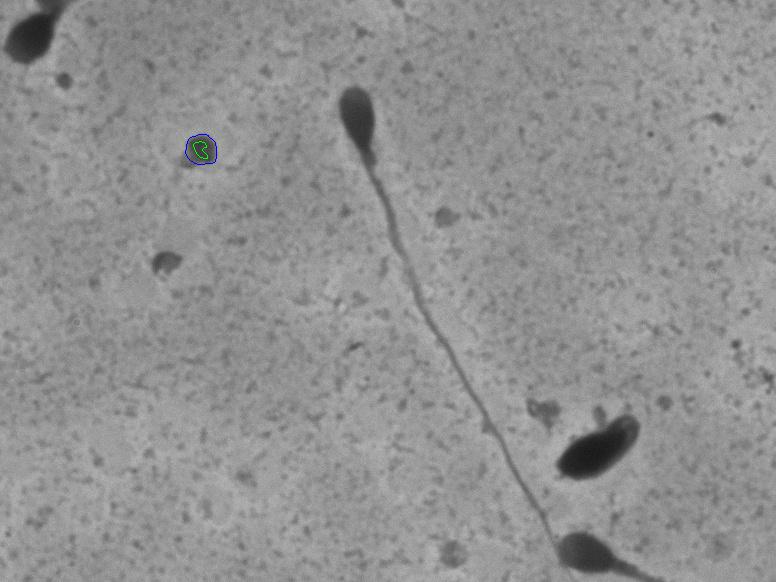Abnormal: (322, 63, 571, 565), (546, 395, 671, 487)
